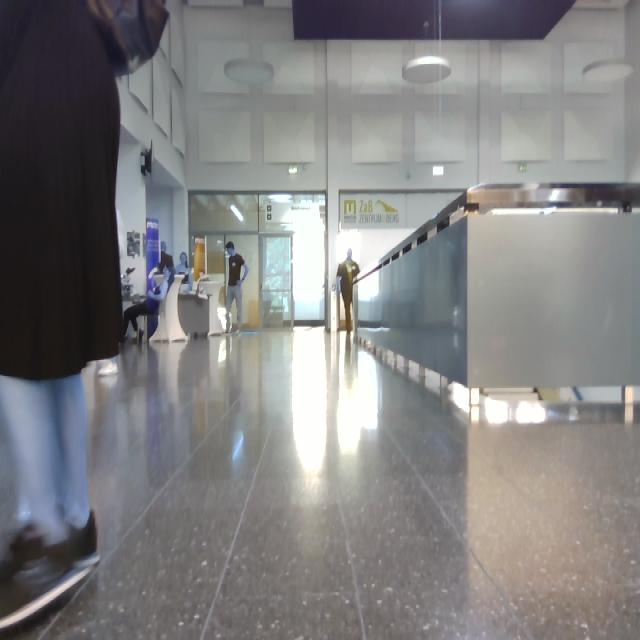light bulb: (225, 59, 275, 84), (404, 58, 452, 84), (584, 59, 634, 83), (488, 398, 510, 424), (231, 207, 245, 222)
person: (1, 1, 169, 622), (125, 269, 171, 335), (226, 243, 250, 334), (339, 249, 361, 332)
staircase: (359, 187, 640, 389)
tiled floor: (21, 329, 640, 639)
